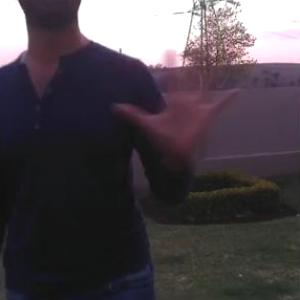follow_hand: (111, 44, 240, 158)
